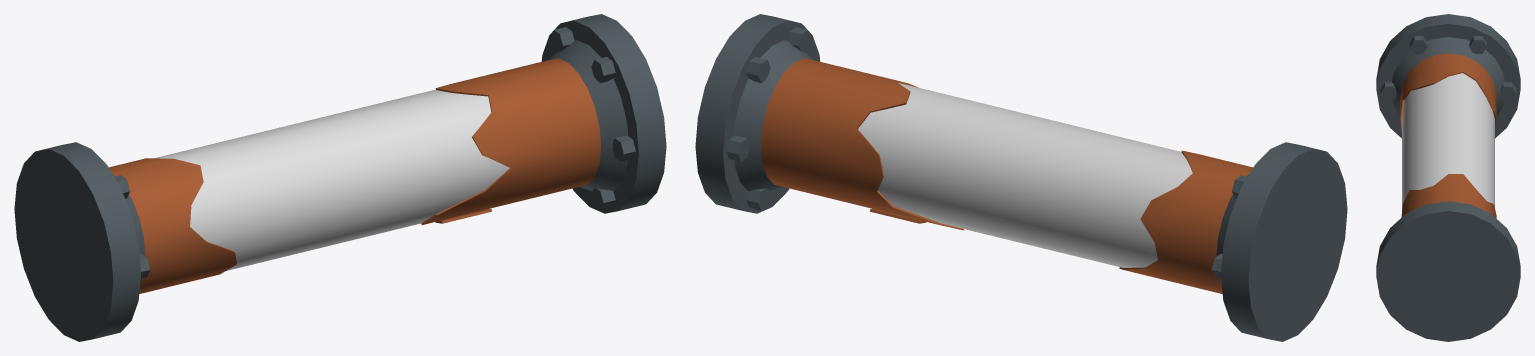
The model's file is pipe_straight_1m.glb.
3 renders of one model, left to right at view 1: azimuth 30°, elevation 25°; view 2: azimuth 150°, elevation 25°; view 3: azimuth 270°, elevation 25°, orthographic. The views are drawn at different scales.
Visible parts, largest first — view 1: Pipe; view 2: Pipe; view 3: Pipe.
Part boxes in pixels (x1,y1,x2,y2): Pipe: (14, 14, 666, 341); Pipe: (695, 14, 1347, 341); Pipe: (1376, 14, 1520, 341).
Size of the model in its own units: 1 by 0.31 by 0.31.
